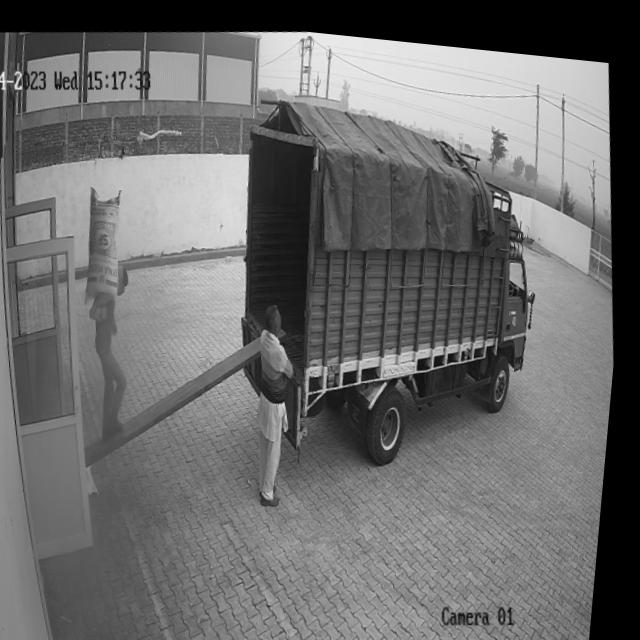sack: (79, 181, 136, 304)
